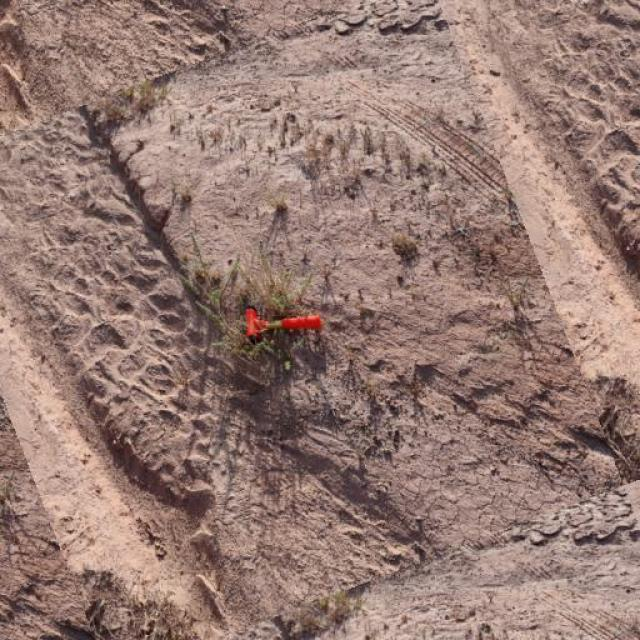mallet: (242, 305, 322, 344)
